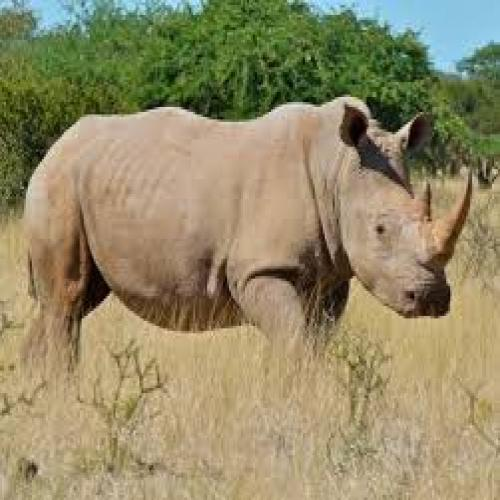rhino-endangered: (25, 112, 473, 397)
